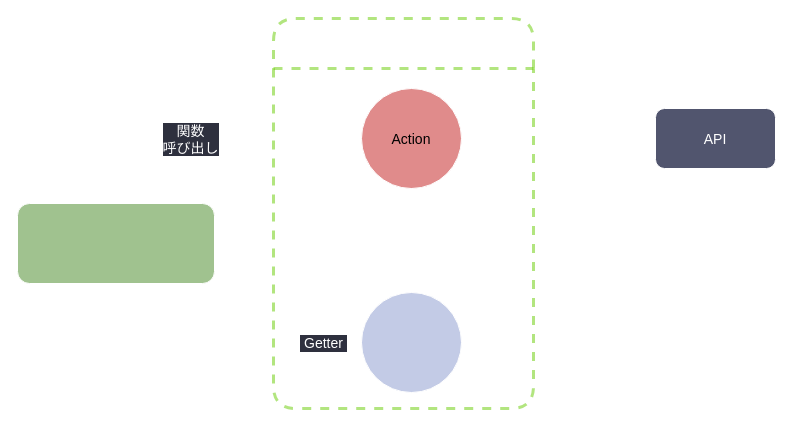
Some shapes in this 793 by 427 pixel diagram are drawn without their labels. The centre of each missing label's shape, as x and y in pixels:
State: point 411,342
ビュー＆ビューモデル: point 115,243
